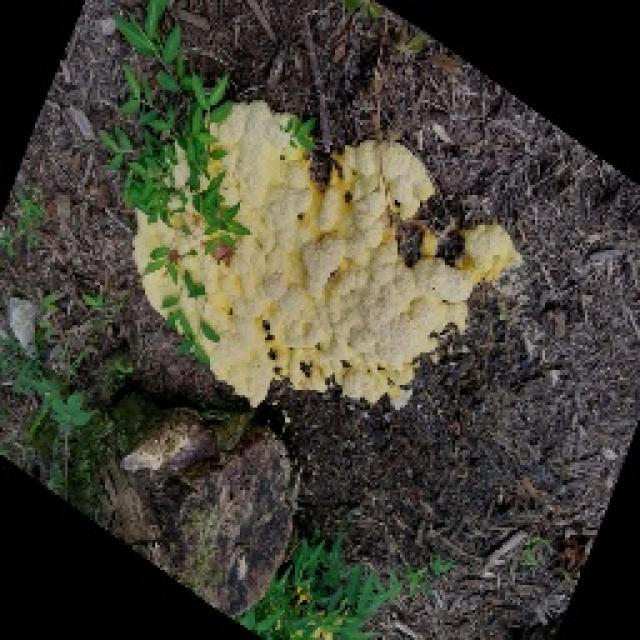Dog_vomit_slime_mold: (129, 78, 528, 410)
